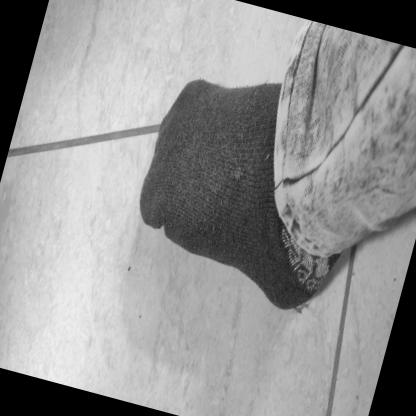ankle: (270, 181, 279, 196)
heel: (315, 279, 321, 289)
left_foot: (123, 60, 383, 320)
pinky: (159, 210, 165, 219)
toe: (183, 88, 191, 100)
